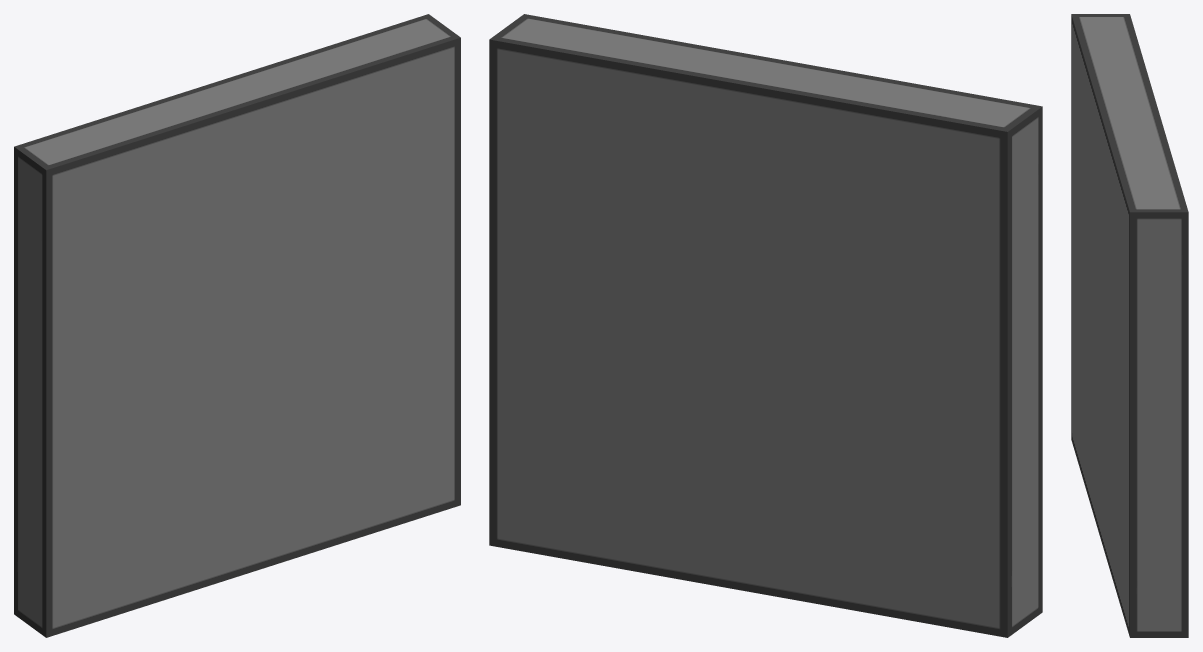
Rendered from doubleramp_8x1.glb.
3 renders of one model, left to right at view 1: azimuth 30°, elevation 25°; view 2: azimuth 150°, elevation 25°; view 3: azimuth 270°, elevation 25°, orthographic. The views are drawn at different scales.
Visible parts, largest first — view 1: Cube; view 2: Cube; view 3: Cube.
Boxes of the visible parts, x1,y1,x2,y2 form: Cube: (14,14,460,637); Cube: (489,14,1042,637); Cube: (1071,14,1188,637).
Bounding box in the file's own units: 8 × 8 × 2.
1 material, 1 textured.
